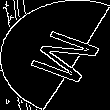M_SE: (11, 23, 99, 87)
